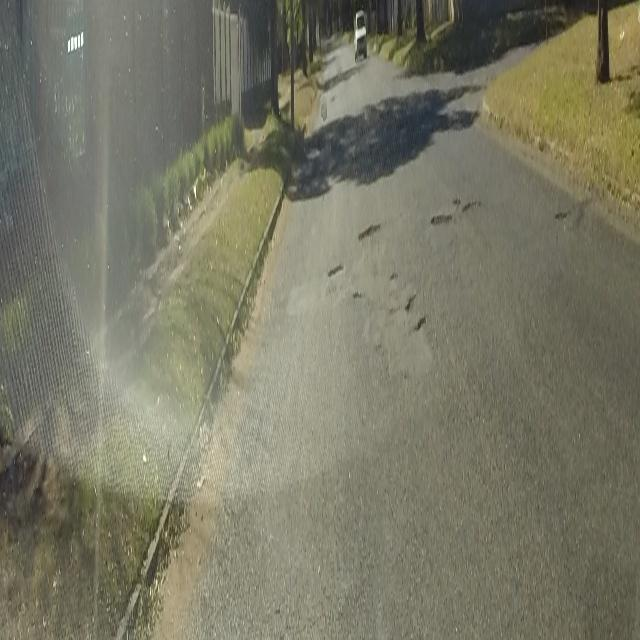pothole: (430, 191, 488, 225), (400, 288, 431, 338), (358, 220, 382, 242), (326, 255, 345, 279), (552, 204, 572, 226)
